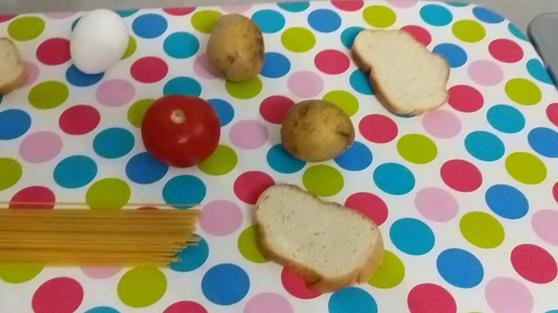egg: (61, 8, 132, 80)
potato: (138, 93, 225, 171), (195, 10, 277, 87), (272, 95, 360, 166)
spaghetti: (1, 193, 206, 277)
white_bread: (252, 178, 398, 291), (344, 22, 462, 120)
